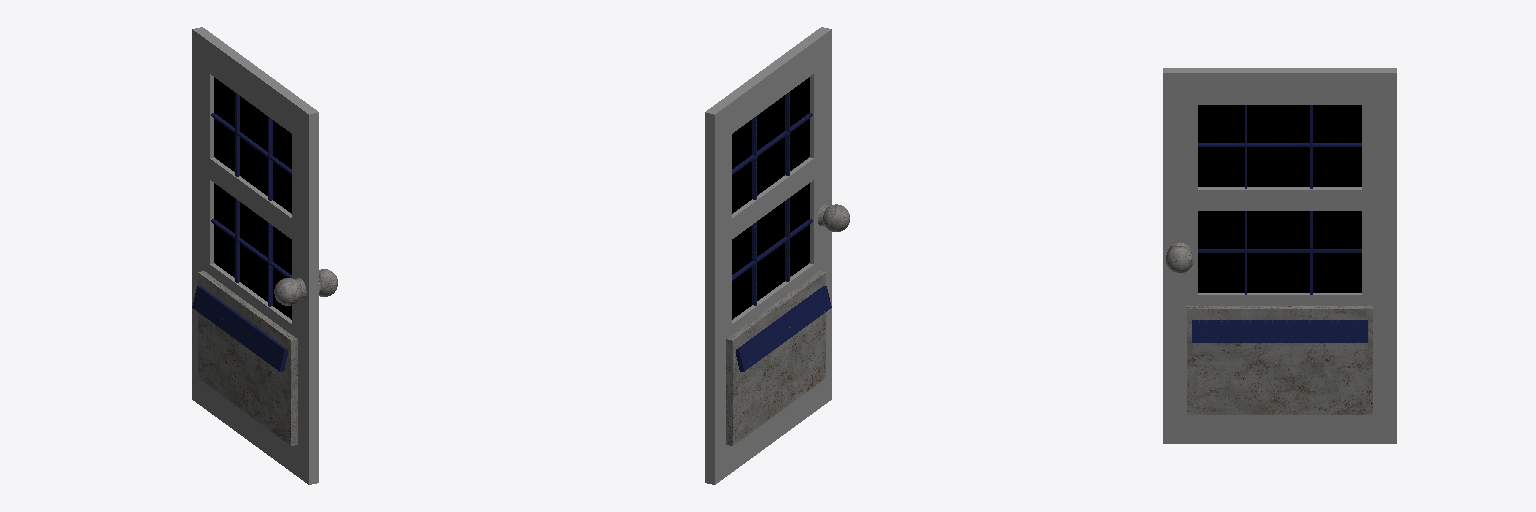
3 views of the same model, side by side, from view 1: azimuth 30°, elevation 25°; view 2: azimuth 150°, elevation 25°; view 3: azimuth 270°, elevation 25° (orthographic).
Parts seen in each view (by area): view 1: puertaPrinc; view 2: puertaPrinc; view 3: puertaPrinc.
Boxes of the visible parts, x1,y1,x2,y2 form: puertaPrinc: [192, 27, 337, 484]; puertaPrinc: [705, 27, 849, 484]; puertaPrinc: [1163, 68, 1396, 443].
Size of the model in its own units: 14.9 by 87.5 by 50.
4 materials, 3 textured.